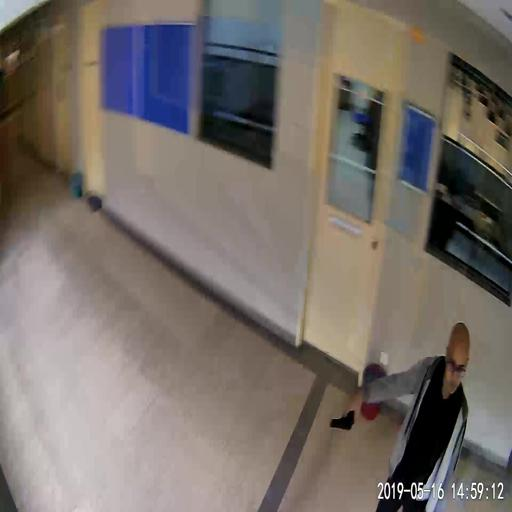pistol: (329, 400, 356, 430)
